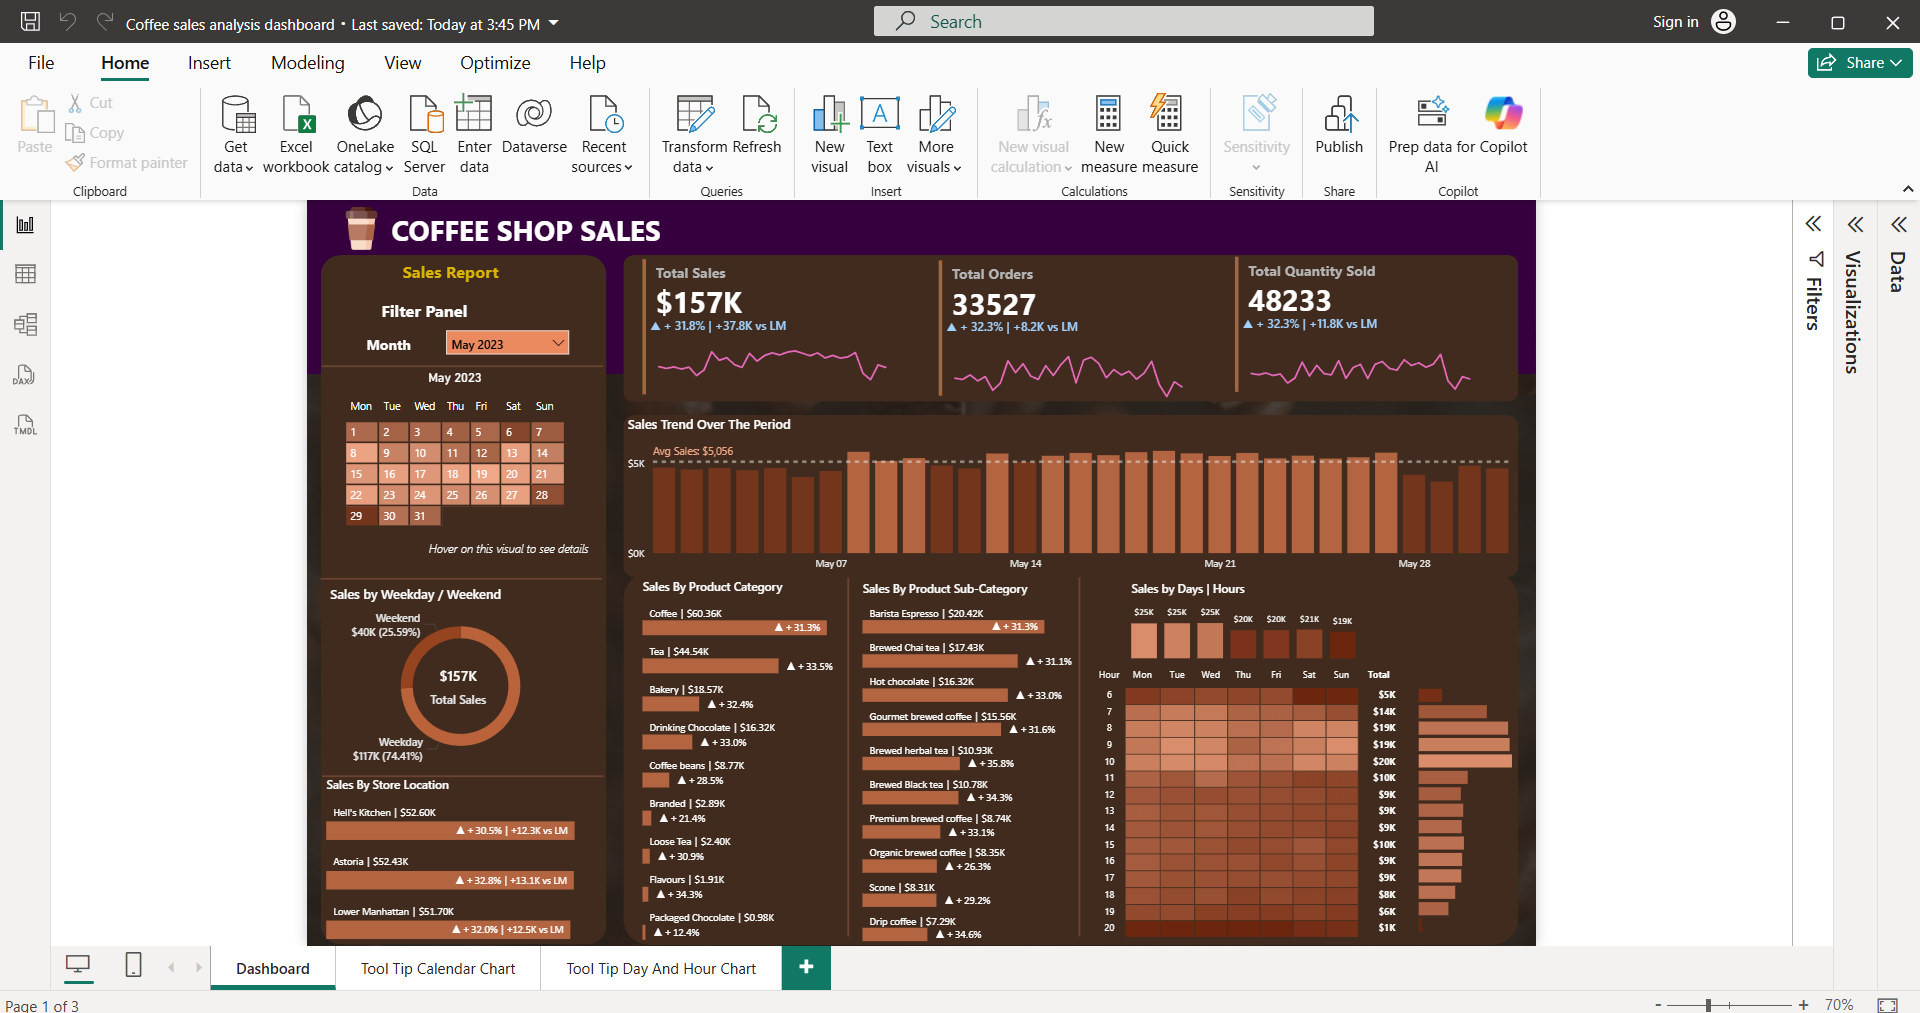

The dashboard page shown, as its layout file describes it:
{"tool":"powerbi","page":{"name":"Dashboard","canvas":[1400,850],"ordinal":0},"visuals":[{"type":"shape","box":[0,0,1400,198.3],"z":0},{"type":"shape","box":[15.7,62.9,325.7,785.7],"z":1000},{"type":"shape","box":[360,62.9,1020,167.1],"z":2000},{"type":"textbox","box":[91.4,7.1,332.9,52.9],"z":3000},{"type":"cardVisual","fields":{"Data":["Transactions.Total Qty Sold"]},"box":[1052.9,60,290,164.3],"z":4000,"group":"g3"},{"type":"cardVisual","fields":{"Data":["Transactions.Total Sales"]},"box":[377.1,62.9,300,164.3],"z":4000,"group":"g1"},{"type":"cardVisual","fields":{"Data":["Transactions.Total Orders"]},"box":[715,64.3,300,164.3],"z":4000,"group":"g2"},{"type":"slicer","fields":{"Values":["Date Table.Month Year"]},"box":[154.3,144.3,150,40],"z":4000},{"type":"group","id":"g1","title":"Group 2","box":[377.1,62.9,300,167.1],"z":5000},{"type":"group","id":"g2","title":"Group 2","box":[715,64.3,300,167.1],"z":6000},{"type":"lineChart","fields":{"Category":["Date Table.Date.Variation.Date Hierarchy.Year","Date Table.Date.Variation.Date Hierarchy.Quarter","Date Table.Date.Variation.Date Hierarchy.Month","Date Table.Date.Variation.Date Hierarchy.Day"],"Y":["Transactions.Total Quantity Sold"]},"box":[1061.8,131.6,279,95.7],"z":6000,"group":"g3"},{"type":"lineChart","fields":{"Category":["Date Table.Date.Variation.Date Hierarchy.Year","Date Table.Date.Variation.Date Hierarchy.Quarter","Date Table.Date.Variation.Date Hierarchy.Month","Date Table.Date.Variation.Date Hierarchy.Day"],"Y":["Transactions.Total Sales"]},"box":[386.3,134.5,288.6,95.7],"z":6000,"group":"g1"},{"type":"lineChart","fields":{"Category":["Date Table.Date.Variation.Date Hierarchy.Year","Date Table.Date.Variation.Date Hierarchy.Quarter","Date Table.Date.Variation.Date Hierarchy.Month","Date Table.Date.Variation.Date Hierarchy.Day"],"Y":["Transactions.Total Orders"]},"box":[724.2,135.9,288.6,95.7],"z":6000,"group":"g2"},{"type":"group","id":"g3","title":"Group 2","box":[1052.9,60,290,167.1],"z":7000},{"type":"pivotTable","fields":{"Rows":["Date Table.Week Number"],"Columns":["Date Table.Day Name"],"Values":["Min(Date Table.Day Number)"]},"box":[14.2,217.9,326.2,179.5],"z":8000},{"type":"card","fields":{"Values":["Min(Date Table.Month Year)"]},"box":[131,189.4,75.5,28.5],"z":9000},{"type":"card","fields":{"Values":["Transactions.Foot Note"]},"box":[131,374.6,198,49.8],"z":10000},{"type":"shape","box":[15.7,424.4,320.5,14.2],"z":11000},{"type":"shape","box":[17.1,182.3,320.5,14.2],"z":12000},{"type":"donutChart","title":"Sales by Weekday / Weekend","fields":{"Category":["Date Table.Weekday / Weekend"],"Y":["Transactions.Total Sales"]},"box":[21.4,438.7,307.6,210.8],"z":13000},{"type":"card","fields":{"Values":["Transactions.Total Sales"]},"box":[113.9,527,116.8,52.7],"z":14000},{"type":"shape","box":[17.1,649.5,320.5,14.2],"z":15000},{"type":"clusteredBarChart","title":"Sales By Store Location","fields":{"Y":["Transactions.Placeholder","Transactions.Total Sales"],"Category":["Transactions.store_location"]},"box":[17.1,656.6,320.5,193.7],"z":16000},{"type":"shape","box":[360.3,245,1020,185],"z":17000},{"type":"shape","box":[360.3,424.4,1019.8,424.4],"z":18000},{"type":"columnChart","title":"Sales Trend Over The Period","fields":{"Category":["Transactions.transaction_date"],"Y":["Transactions.Total Sales"]},"box":[360.3,245,1019.8,186.6],"z":19000},{"type":"clusteredBarChart","title":"Sales By Product Category","fields":{"Category":["Transactions.product_category"],"Y":["Transactions.Placeholder","Transactions.Total Sales"]},"box":[377.4,431.6,250.7,417.3],"z":20000},{"type":"clusteredBarChart","title":"Sales By Product Sub-Category","fields":{"Y":["Transactions.Placeholder","Transactions.Total Sales"],"Category":["Transactions.product_type"]},"box":[628.1,433,250.7,417.3],"z":21000},{"type":"shape","box":[605.3,430.1,22.8,408.8],"z":22000},{"type":"shape","box":[868.8,430.1,22.8,408.8],"z":23000},{"type":"pivotTable","fields":{"Rows":["Transactions.Hour"],"Columns":["Date Table.Day Name"],"Values":["Transactions.Total Sales"]},"box":[891.6,528.4,370.3,321.9],"z":24000},{"type":"barChart","fields":{"Category":["Transactions.Hour"],"Y":["Transactions.Total Sales"]},"box":[1261.9,544.1,118.2,294.8],"z":25000},{"type":"columnChart","title":"Sales by Days | Hours","fields":{"Y":["Transactions.Total Sales"],"Category":["Date Table.Day Name"]},"box":[934.3,433,266.3,95.4],"z":26000},{"type":"textbox","box":[62.9,148.6,68.6,34.3],"z":27000},{"type":"textbox","box":[104.3,64.3,144.3,50],"z":28000},{"type":"textbox","box":[80,108.6,167.1,40],"z":29000},{"type":"image","box":[32.9,0,58.6,64.3],"z":30000}]}

Visuals, with their boxes on the page's 1400x850 design canvas (x1, y1, x2, y2). These are canvas units, not pixel positions in the 1920x1013 screenshot, which may show the page scaled, cropped or inside an application window:
shape: (0, 0, 1400, 198)
shape: (16, 63, 341, 849)
shape: (360, 63, 1380, 230)
textbox: (91, 7, 424, 60)
cardVisual - Transactions.Total Qty Sold: (1053, 60, 1343, 224)
cardVisual - Transactions.Total Sales: (377, 63, 677, 227)
cardVisual - Transactions.Total Orders: (715, 64, 1015, 229)
slicer - Date Table.Month Year: (154, 144, 304, 184)
"Group 2" group: (377, 63, 677, 230)
"Group 2" group: (715, 64, 1015, 231)
lineChart - Date Table.Date.Variation.Date Hierarchy.Year x Date Table.Date.Variation.Date Hierarchy.Quarter: (1062, 132, 1341, 227)
lineChart - Date Table.Date.Variation.Date Hierarchy.Year x Date Table.Date.Variation.Date Hierarchy.Quarter: (386, 134, 675, 230)
lineChart - Date Table.Date.Variation.Date Hierarchy.Year x Date Table.Date.Variation.Date Hierarchy.Quarter: (724, 136, 1013, 232)
"Group 2" group: (1053, 60, 1343, 227)
pivotTable - Date Table.Week Number x Date Table.Day Name: (14, 218, 340, 397)
card - Min(Date Table.Month Year): (131, 189, 206, 218)
card - Transactions.Foot Note: (131, 375, 329, 424)
shape: (16, 424, 336, 439)
shape: (17, 182, 338, 196)
"Sales by Weekday / Weekend" donutChart: (21, 439, 329, 650)
card - Transactions.Total Sales: (114, 527, 231, 580)
shape: (17, 650, 338, 664)
"Sales By Store Location" clusteredBarChart: (17, 657, 338, 850)
shape: (360, 245, 1380, 430)
shape: (360, 424, 1380, 849)
"Sales Trend Over The Period" columnChart: (360, 245, 1380, 432)
"Sales By Product Category" clusteredBarChart: (377, 432, 628, 849)
"Sales By Product Sub-Category" clusteredBarChart: (628, 433, 879, 850)
shape: (605, 430, 628, 839)
shape: (869, 430, 892, 839)
pivotTable - Transactions.Hour x Date Table.Day Name: (892, 528, 1262, 850)
barChart - Transactions.Hour x Transactions.Total Sales: (1262, 544, 1380, 839)
"Sales by Days | Hours" columnChart: (934, 433, 1201, 528)
textbox: (63, 149, 132, 183)
textbox: (104, 64, 249, 114)
textbox: (80, 109, 247, 149)
image: (33, 0, 92, 64)
